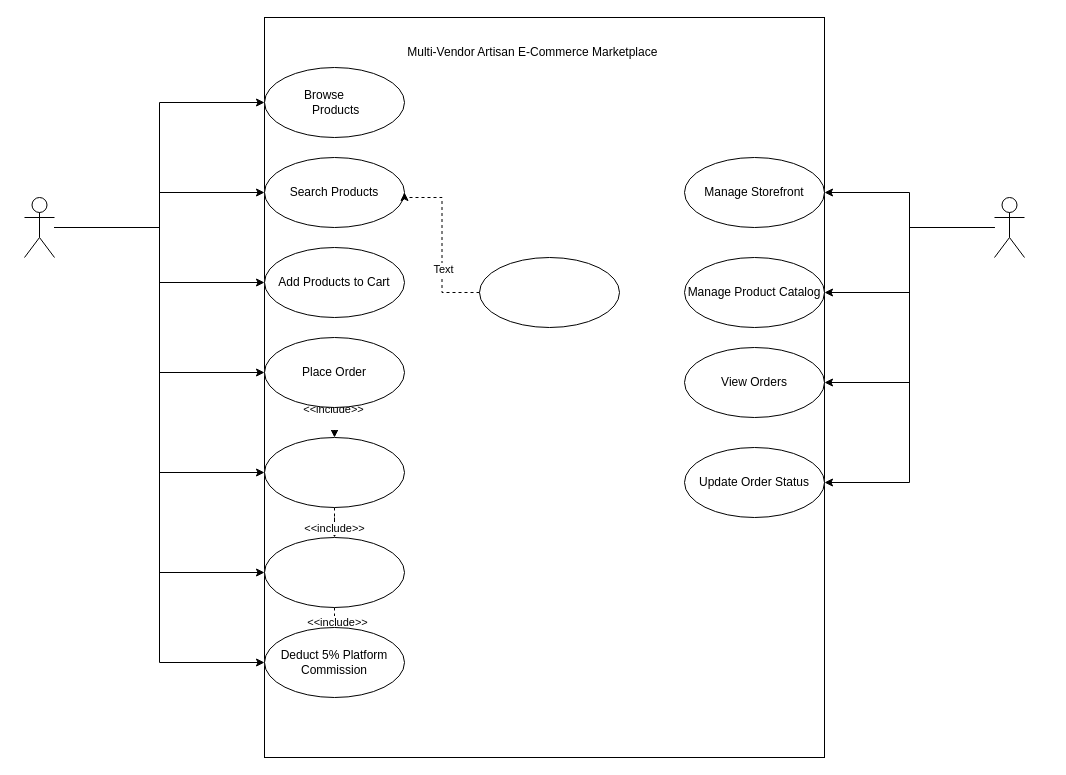
Image size: 1066x775. Some labels were removed from this diagram. The shapes that lost their labels are listed below. From the top down, each one's centre as x and y in pixels, then its label:
At pixel 39 227: "Shopper".
At pixel 1009 227: "Artisan Vendor".
At pixel 549 292: "Apply Filters".
At pixel 334 472: "Process Payment".
At pixel 334 572: "Split Payment".
